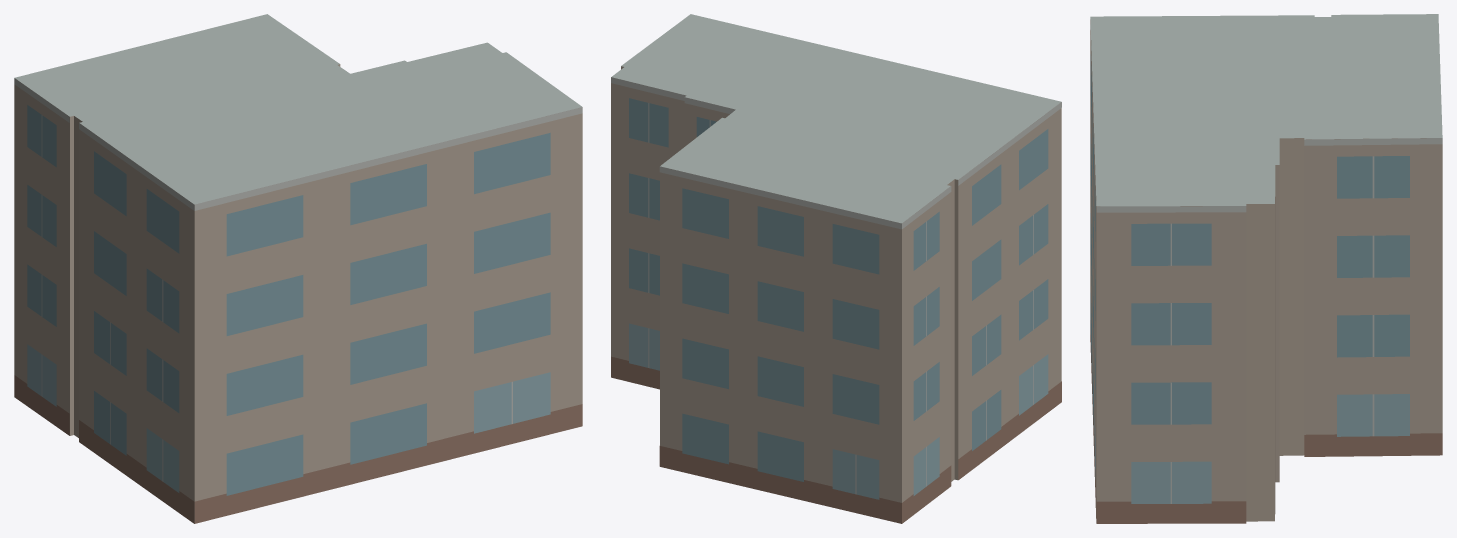
Rendered from survey-upis-32744050.glb.
The picture shows the model from 3 angles, left to right: view 1: azimuth 30°, elevation 25°; view 2: azimuth 150°, elevation 25°; view 3: azimuth 270°, elevation 25°; orthographic projection. The views are drawn at different scales.
Parts seen in each view (by area): view 1: survey-upis-32744050.tmp; view 2: survey-upis-32744050.tmp; view 3: survey-upis-32744050.tmp.
Part boxes in pixels (x1,y1,x2,y2): survey-upis-32744050.tmp: (14, 14, 582, 523); survey-upis-32744050.tmp: (611, 14, 1061, 523); survey-upis-32744050.tmp: (1090, 14, 1442, 523).
Bounding box in the file's own units: 15.86 × 12.2 × 12.28.
